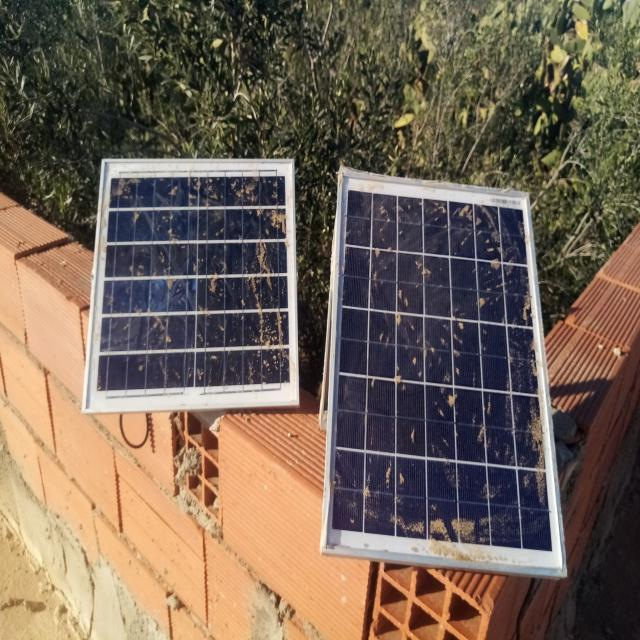faulty: (322, 173, 568, 576), (82, 158, 300, 414)
